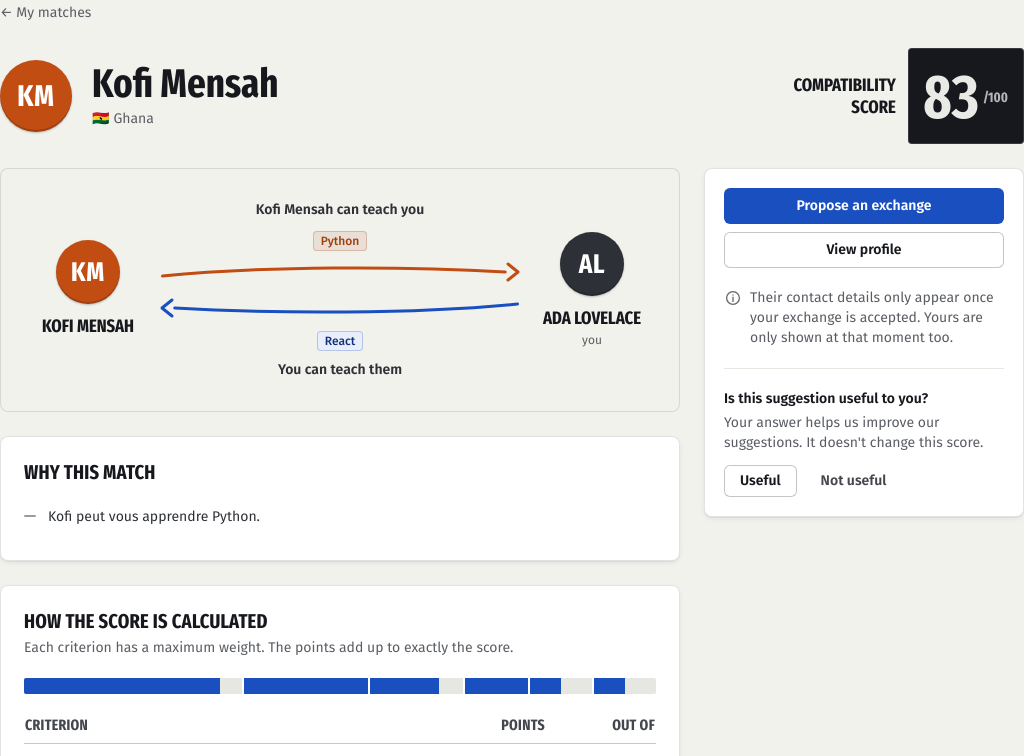
Test: détail d un match › explique le match en anglais
Expected: the heading "Kofi Mensah can teach you" is shown, [256, 200, 424, 220]
Expected: the text "Compatibility score" is shown, [793, 74, 896, 118]
Click the button "Propose an exchange": (864, 206) [724, 188, 1004, 224]
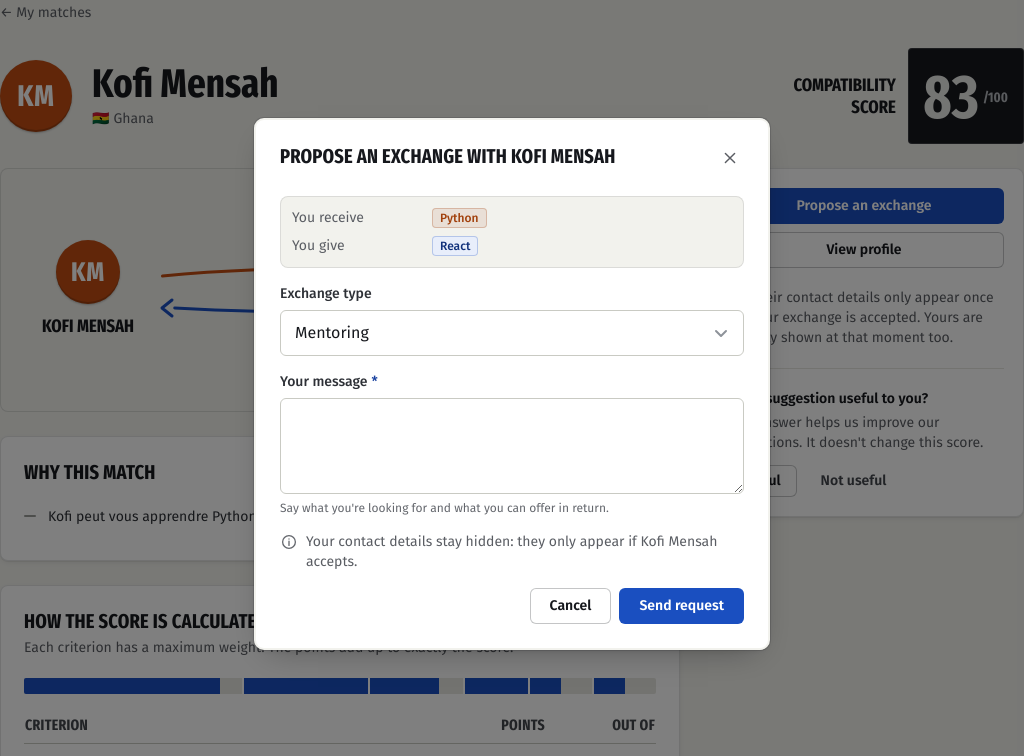
Expected: the dialog "Propose an exchange with Kofi Mensah" is shown, [256, 120, 768, 648]
